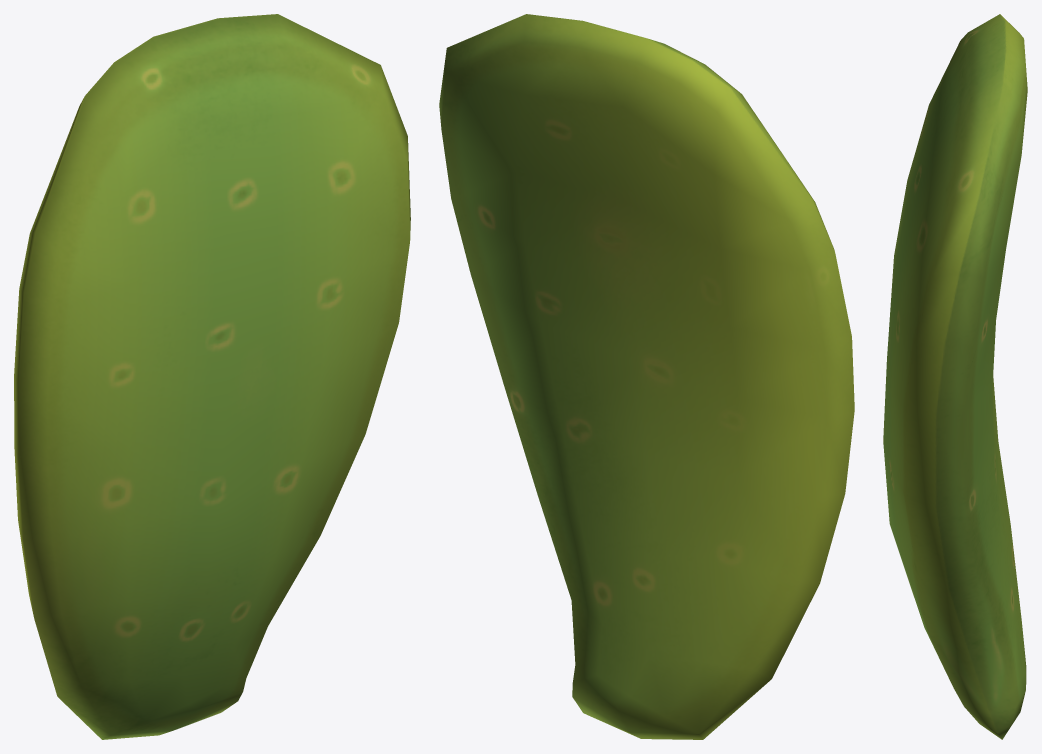
The model's file is bcactus5.fbx.
3 renders of one model, left to right at view 1: azimuth 30°, elevation 25°; view 2: azimuth 150°, elevation 25°; view 3: azimuth 270°, elevation 25°, orthographic.
Visible parts, largest first — view 1: cactus2_low; view 2: cactus2_low; view 3: cactus2_low.
Part boxes in pixels (<box>): cactus2_low: <box>14,14,410,739</box>; cactus2_low: <box>439,14,854,739</box>; cactus2_low: <box>883,14,1027,739</box>.
Bounding box in the file's own units: 203 × 63.5 × 339.
